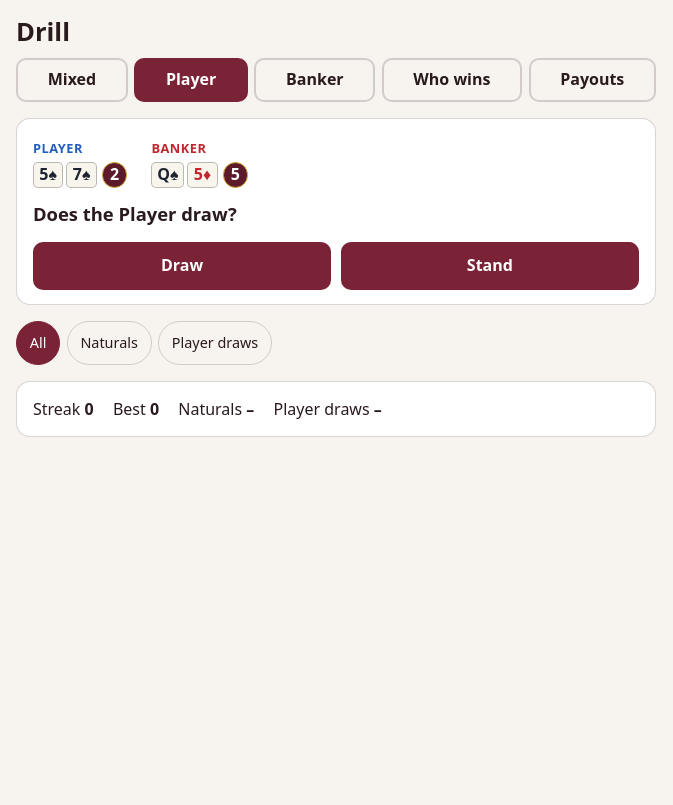
Test: Drill › works with the real strategy drill (no fakes)
Click the button "Draw".
click(182, 266)  # box x1=33 y1=242 x2=331 y2=290
(page scrolled)
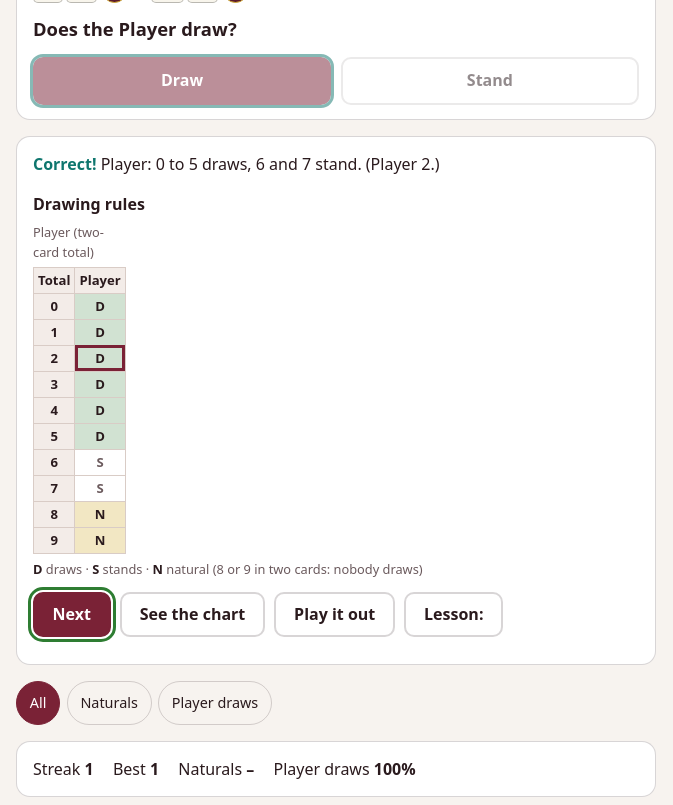
Now the element with test id "drill-result" is shown
